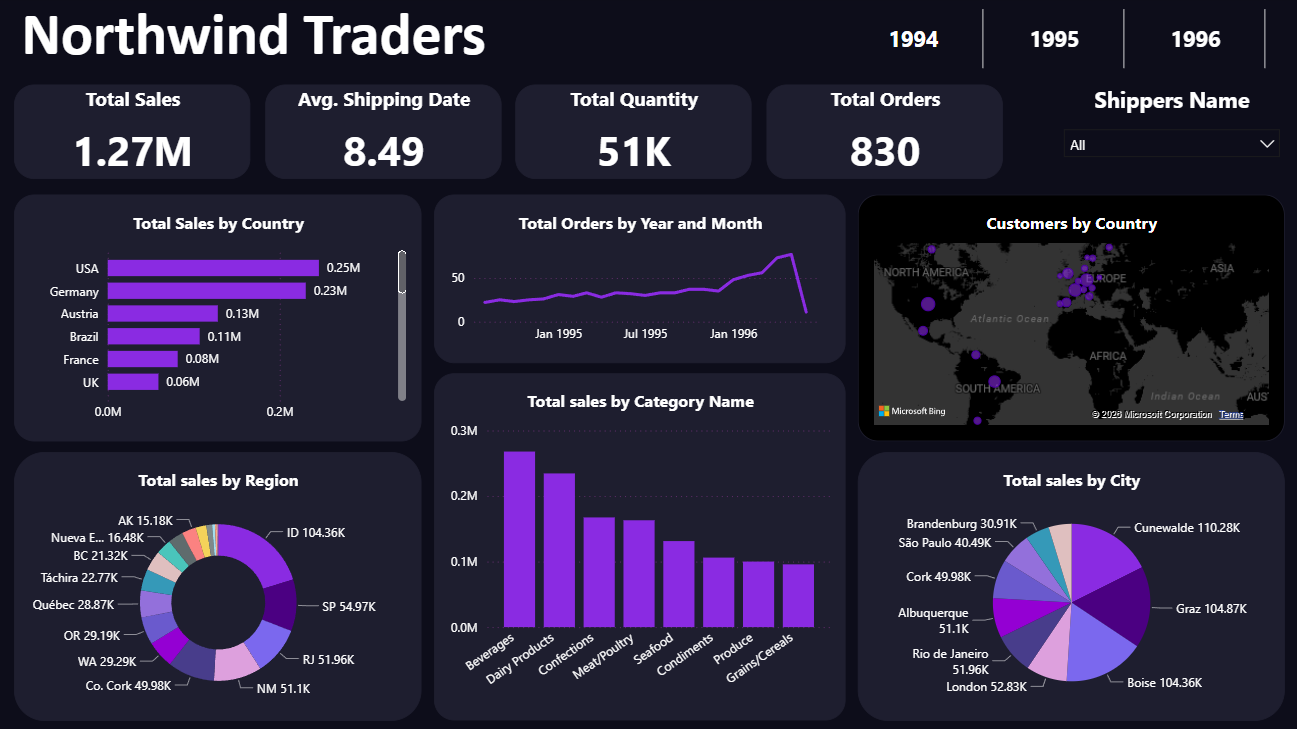

What the dashboard file says about the page in this screenshot:
{"tool":"powerbi","page":{"name":"Sales Analysis","canvas":[1280,720],"ordinal":0},"visuals":[{"type":"map","title":"Customers by Country","fields":{"Size":["CountNonNull(customers.CustomerID)"],"Category":["customers.Country"]},"box":[843.5,194.2,418.8,242],"z":0},{"type":"lineChart","title":"Total Orders by Year and Month","fields":{"Category":["Custom_calender.Date.Variation.Date Hierarchy.Year","Custom_calender.Date.Variation.Date Hierarchy.Month"],"Y":["CountNonNull(orders.OrderID)"]},"box":[427.5,194.2,404.3,165.2],"z":1000},{"type":"barChart","title":"Total Sales by Country","fields":{"Category":["customers.Country"],"Y":["Sum(order details.Total_sales)"]},"box":[14.5,194.2,400,242],"z":2000},{"type":"card","title":"Avg. Shipping Date","fields":{"Values":["Avg(orders.Difforder_ship date)"]},"box":[260.9,85.5,231.9,92.8],"z":3000},{"type":"card","title":"Total Sales","fields":{"Values":["Sum(order details.Total_sales)"]},"box":[14.5,85.5,231.9,92.8],"z":4000},{"type":"textbox","box":[21.7,0,510.1,85.5],"z":5000},{"type":"card","title":"Total Quantity","fields":{"Values":["Sum(order details.Quantity)"]},"box":[507.2,85.5,231.9,92.8],"z":6000},{"type":"card","title":"Total Orders","fields":{"Values":["CountNonNull(orders.OrderID)"]},"box":[753.6,85.5,231.9,92.8],"z":7000},{"type":"slicer","fields":{"Values":["orders.Year"]},"box":[808.7,10.1,453.6,62.3],"z":8000},{"type":"slicer","title":"Shippers Name","fields":{"Values":["shippers.CompanyName"]},"box":[1040.6,85.5,221.7,92.8],"z":9000},{"type":"columnChart","title":"Total sales by Category Name","fields":{"Category":["categories.CategoryName"],"Y":["Sum(order details.Total_sales)"]},"box":[427.5,369.6,404.3,340.6],"z":10000},{"type":"pieChart","title":"Total sales by City","fields":{"Category":["customers.City"],"Y":["Sum(order details.Total_sales)"]},"box":[843.5,446.4,418.8,263.8],"z":11000},{"type":"donutChart","title":"Total sales by Region","fields":{"Category":["customers.Region"],"Y":["Sum(order details.Total_sales)"]},"box":[14.5,446.4,400,263.8],"z":12000}]}

Visuals, with their boxes in screenshot pixels (x1, y1, x2, y2), scaled from the page's 1280x720 canvas onto the 1297x729 screenshot:
"Customers by Country" map: (855, 197, 1279, 442)
"Total Orders by Year and Month" lineChart: (433, 197, 843, 364)
"Total Sales by Country" barChart: (15, 197, 420, 442)
"Avg. Shipping Date" card: (264, 87, 499, 181)
"Total Sales" card: (15, 87, 250, 181)
textbox: (22, 0, 539, 87)
"Total Quantity" card: (514, 87, 749, 181)
"Total Orders" card: (764, 87, 999, 181)
slicer - orders.Year: (819, 10, 1279, 73)
"Shippers Name" slicer: (1054, 87, 1279, 181)
"Total sales by Category Name" columnChart: (433, 374, 843, 719)
"Total sales by City" pieChart: (855, 452, 1279, 719)
"Total sales by Region" donutChart: (15, 452, 420, 719)
